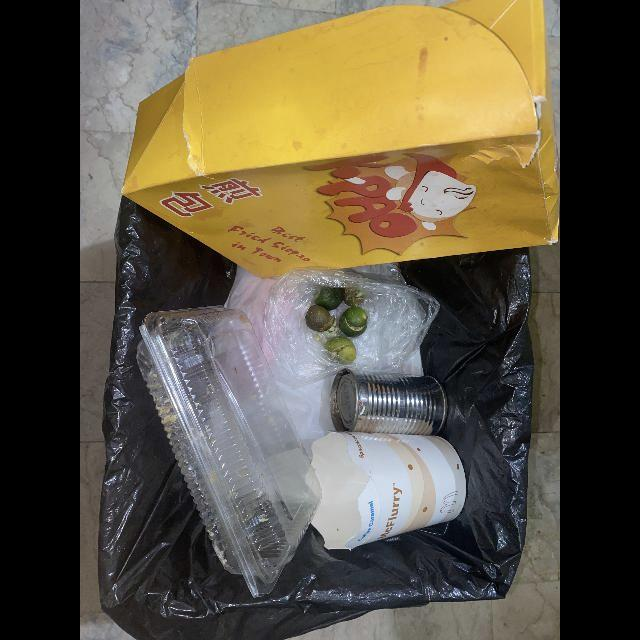aluminum: (330, 369, 447, 436)
cardboard: (121, 0, 560, 281), (311, 432, 467, 550)
left_over_food: (306, 305, 340, 333), (339, 307, 368, 338), (324, 336, 356, 364), (315, 288, 344, 311), (344, 287, 364, 307), (314, 334, 320, 342)
plastic_bag: (263, 267, 440, 388)
plastic_container: (136, 307, 322, 600)
